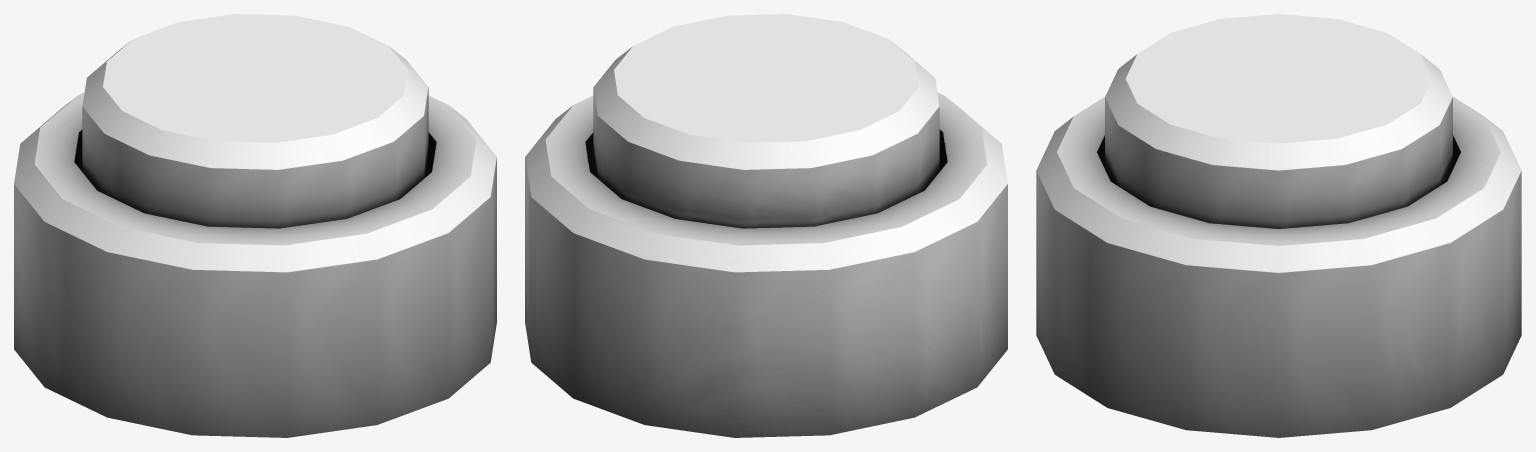
The picture shows the model from 3 angles, left to right: view 1: azimuth 30°, elevation 25°; view 2: azimuth 150°, elevation 25°; view 3: azimuth 270°, elevation 25°; orthographic projection.
Parts seen in each view (by area): view 1: Button_Base, Button; view 2: Button_Base, Button; view 3: Button_Base, Button.
Boxes of the visible parts, left/top/right/bottom form: Button_Base: left=14, top=92, right=496, bottom=437; Button: left=82, top=14, right=428, bottom=228; Button_Base: left=525, top=92, right=1007, bottom=437; Button: left=593, top=14, right=939, bottom=228; Button_Base: left=1036, top=96, right=1521, bottom=437; Button: left=1105, top=14, right=1452, bottom=228.
Size of the model in its own units: 60 by 35 by 60.
Materials: 2 (2 with a texture image).
